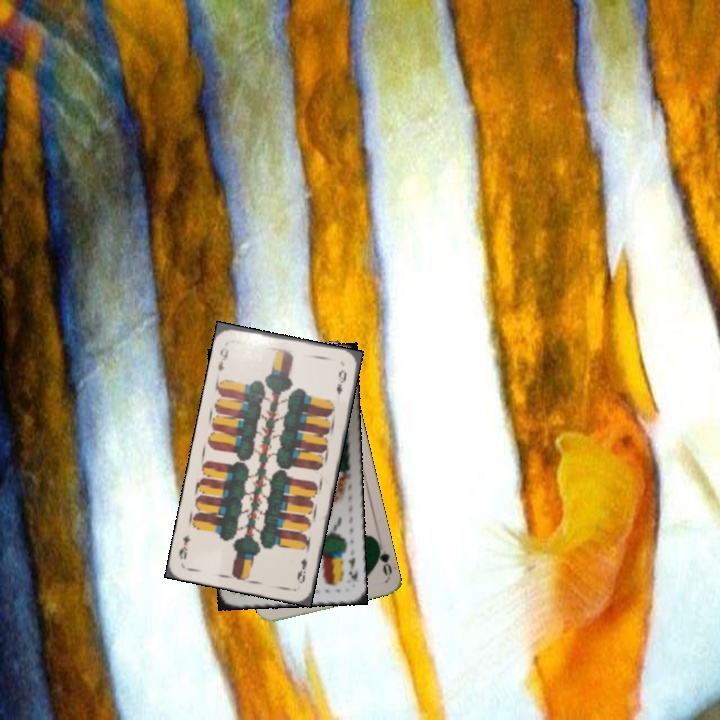E9: (293, 554, 310, 586), (214, 343, 231, 374)
EK: (344, 553, 361, 584)
GO: (372, 539, 395, 579)
